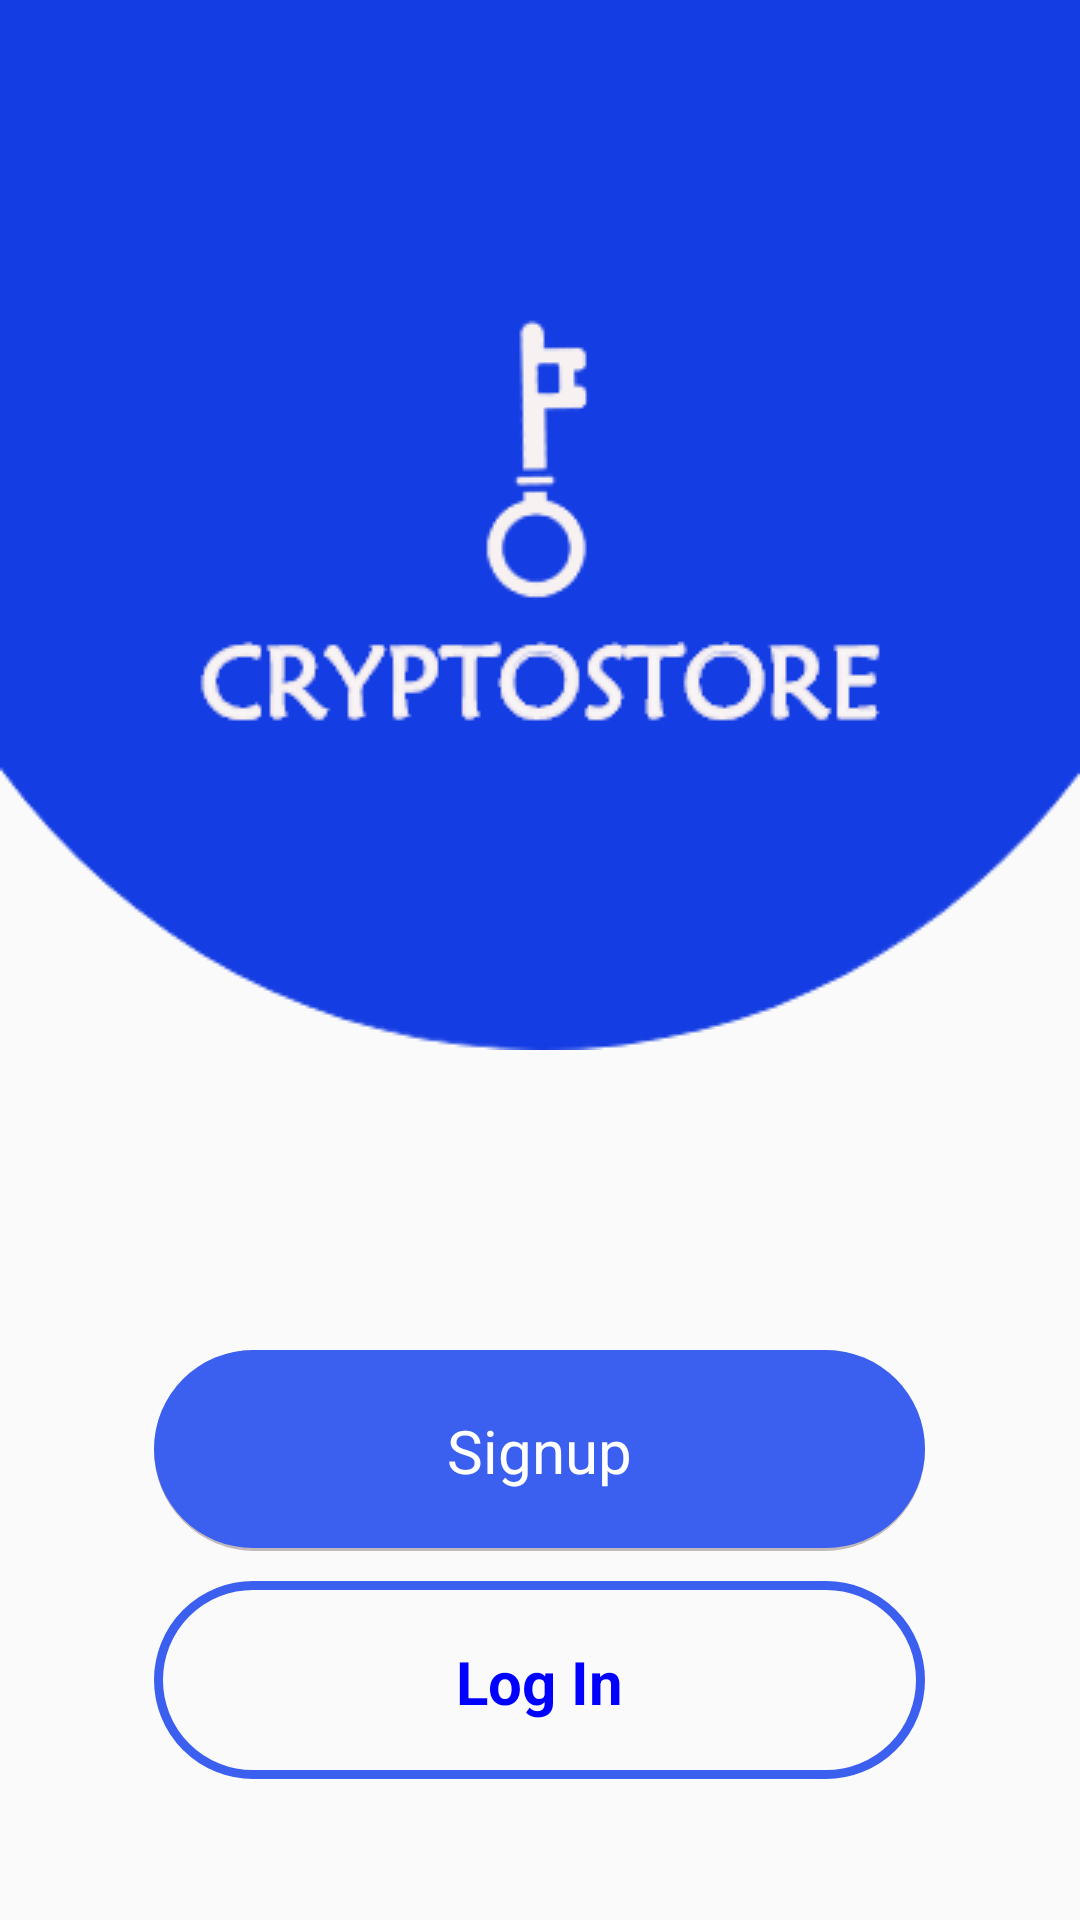

Named icons in this screenshot (1080×1920) and their bounding boxes, (x1, y1, x2, y2):
password: (486, 320, 587, 598)
